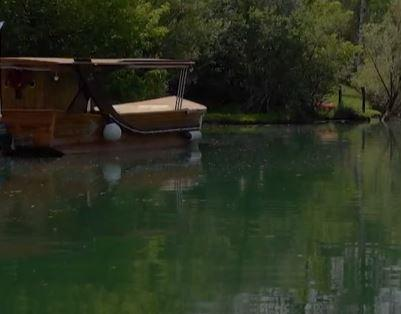Ship: (1, 48, 215, 157)
